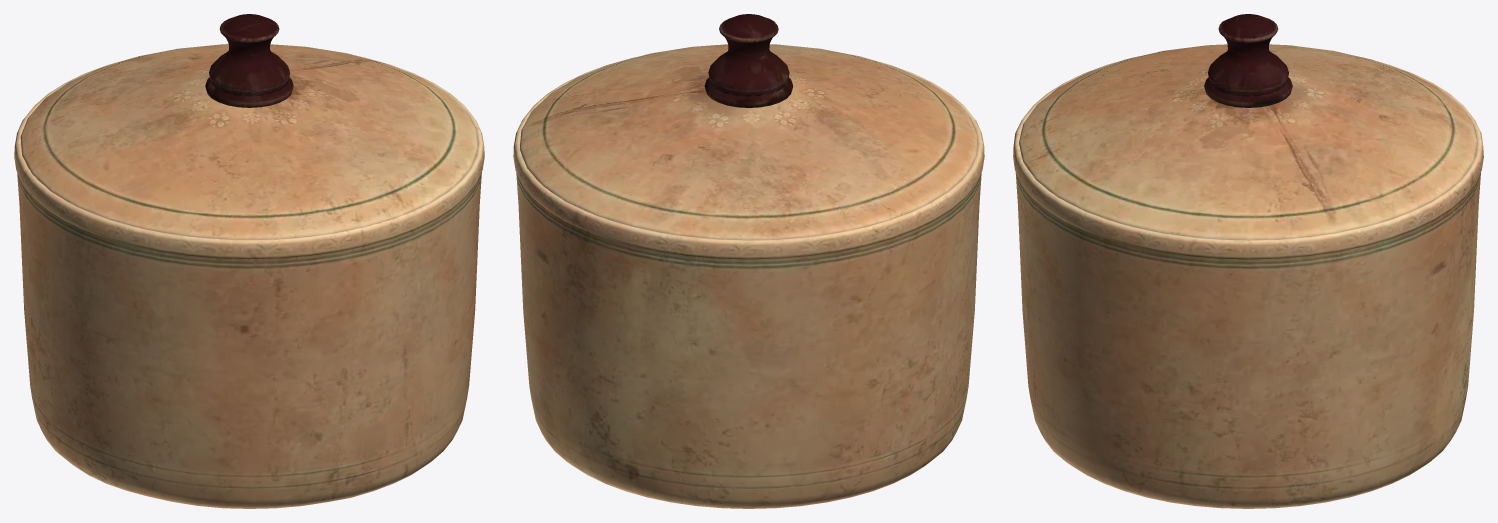
File: brass_pot_01.glb
3 renders of one model, left to right at view 1: azimuth 30°, elevation 25°; view 2: azimuth 150°, elevation 25°; view 3: azimuth 270°, elevation 25°, orthographic.
Visible parts, largest first — view 1: brass_pot_01; view 2: brass_pot_01; view 3: brass_pot_01.
Boxes of the visible parts, bbox=[...] form: brass_pot_01: bbox=[14, 14, 484, 508]; brass_pot_01: bbox=[513, 14, 984, 508]; brass_pot_01: bbox=[1013, 14, 1483, 508].
Size of the model in its own units: 0.3019 by 0.2909 by 0.3017.
1 material, 1 textured.
